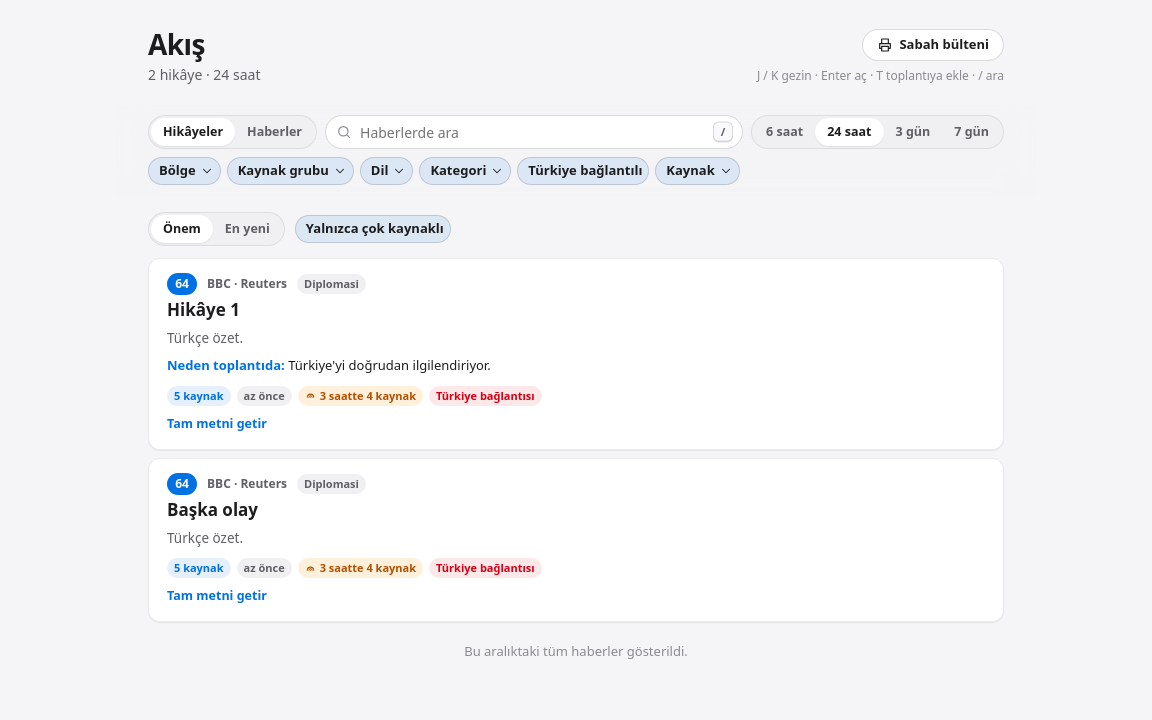
Story detail › shows the summary, the score breakdown and every report with its original link
Click the button "Hikâye 1". click: click(203, 311)
box: [167,299,240,322]
(page scrolled)
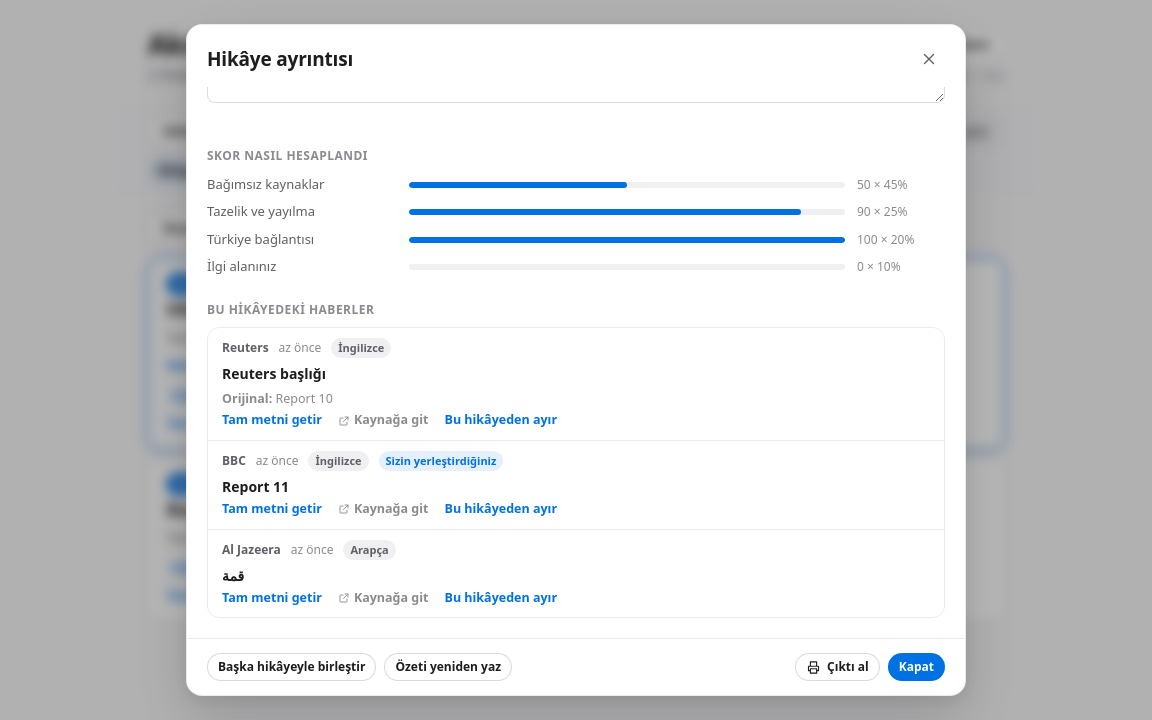
Now the heading "Bu hikâyedeki haberler" is shown, box [207,301,374,318]
Now the text "Bağımsız kaynaklar" is shown, box [207,175,324,193]
Now the text "50 × 45%" is shown, box [857,176,908,192]
